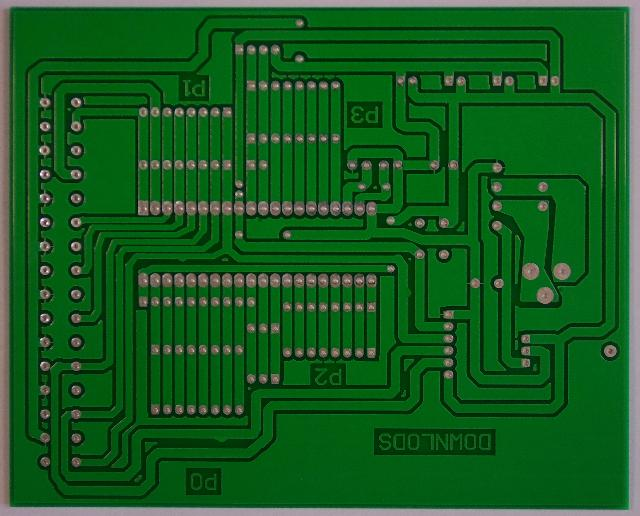spur: (208, 433, 234, 445), (401, 284, 415, 302), (174, 254, 190, 266)
